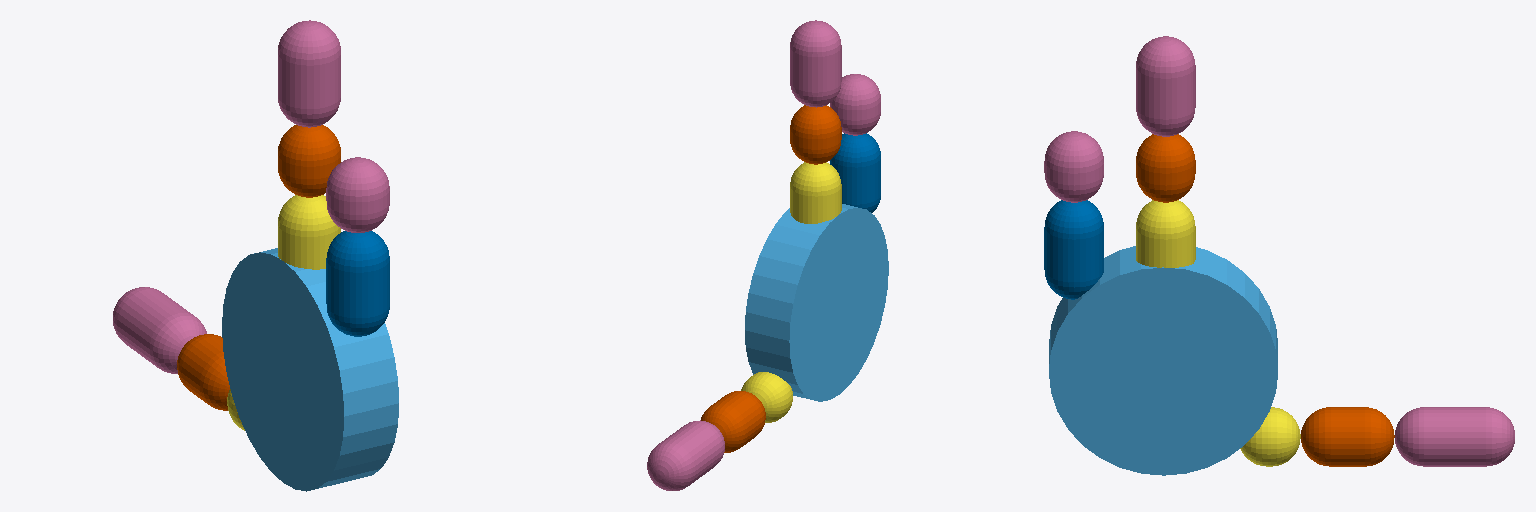
robot.urdf — DexterousHand:
<?xml version="1.0"?>
<robot name="DexterousHand">


    <link name="world"/>
    <joint name="world_to_palm" type="fixed">
        <parent link="world"/>
        <child link="palm"/>
        <origin xyz="0 0 0" rpy="0 0 0"/>
    </joint>
    <link name="palm">
        <inertial>
            <origin xyz="0 0 0.057" rpy="0 0 0"/>
            <mass value="0.30212892864"/>
            <inertia ixx="0.00049080844457568" ixy="0.0" ixz="0.0" iyy="0.00026746366246427523" iyz="0.0" izz="0.00026746366246427523"/>
        </inertial>
        <visual>
            <origin xyz="0 0 0.057" rpy="1.5708 0 1.5708"/>
            <geometry>
                <cylinder radius="0.057" length="0.0296"/>
            </geometry>
            <material name="default"/>
        </visual>
        <collision>
            <origin xyz="0 0 0.057" rpy="1.5708 0 1.5708"/>
            <geometry>
                <cylinder radius="0.057" length="0.0296"/>
            </geometry>
        </collision>
    </link>

    
    <joint name="thumb_joint1" type="revolute">
        <parent link="palm"/>
        <child link="thumb_base"/>
        <origin xyz="0.0029 0.0368 0.0157" rpy="-1.5708 -1.5708 0.0"/>
        <axis xyz="-1 0 0"/>
        <limit lower="-0.349" upper="2.094" effort="1.0" velocity="1.0"/>
    </joint>

    <link name="thumb_base"></link>

    <joint name="thumb_joint2" type="revolute">
        <parent link="thumb_base"/>
        <child link="thumb_proximal"/>
        <origin xyz="0.0 0.0 0.0" rpy="0.0 0.0 0.0"/>
        <axis xyz="0 0 1"/>
        <limit lower="-0.47" upper="2.443" effort="1.0" velocity="1.0"/>
    </joint>

    <link name="thumb_proximal">
        <inertial>
            <origin xyz="0 0 0.01565" rpy="0 0 0"/>
            <mass value="0.021538658803200002"/>
            <inertia ixx="2.9378910096388167e-06" ixy="0.0" ixz="0.0" 
            iyy="2.9378910096388167e-06" iyz="0.0" izz="2.358913912126464e-06"/>
        </inertial>
        <visual>
            <origin xyz="0 0 0.01565" rpy="0 0 0"/>
            <geometry>
                <cylinder radius="0.0148" length="0.0017000000000000001"/>
            </geometry>
            <material name="default"/>
        </visual>
        <visual>
            <origin xyz="0 0 0.0148" rpy="0 0 0"/>
            <geometry>
                <sphere radius="0.0148"/>
            </geometry>
            <material name="default"/>
        </visual>
        <visual>
            <origin xyz="0 0 0.0165" rpy="0 0 0"/>
            <geometry>
                <sphere radius="0.0148"/>
            </geometry>
            <material name="default"/>
        </visual>
        <collision>
            <origin xyz="0 0 0.01565" rpy="0 0 0"/>
            <geometry>
                <cylinder radius="0.0148" length="0.0017000000000000001"/>
            </geometry>
        </collision>
        <collision>
            <origin xyz="0 0 0.0148" rpy="0 0 0"/>
            <geometry>
                <sphere radius="0.0148"/>
            </geometry>
        </collision>
        <collision>
            <origin xyz="0 0 0.0165" rpy="0 0 0"/>
            <geometry>
                <sphere radius="0.0148"/>
            </geometry>
        </collision>
    </link>

    <joint name="thumb_joint3" type="revolute">
        <parent link="thumb_proximal"/>
        <child link="thumb_knuckle"/>
        <origin xyz="0.0 0.0 0.0313" rpy="0.0 0.0 0.0"/>
        <axis xyz="1 0 0"/>
        <limit lower="0.0" upper="0.0" effort="1.0" velocity="1.0"/>
    </joint>

    <link name="thumb_knuckle"></link>

    <joint name="thumb_joint4" type="revolute">
        <parent link="thumb_knuckle"/>
        <child link="thumb_middle"/>
        <origin xyz="0 0 0" rpy="0 0 0"/> 
        <axis xyz="0 1 0"/>
        <limit lower="-1.2" upper="1.9" effort="1.0" velocity="1.0"/>
    </joint>

    <link name="thumb_middle">
        <inertial>
            <origin xyz="0 0 0.0233" rpy="0 0 0"/>
            <mass value="0.032067140582400004"/>
            <inertia ixx="7.5589732685519385e-06" ixy="0.0" ixz="0.0" 
            iyy="7.5589732685519385e-06" iyz="0.0" izz="3.5119932365844485e-06"/>
        </inertial>
        <visual>
            <origin xyz="0 0 0.0233" rpy="0 0 0"/>
            <geometry>
                <cylinder radius="0.0148" length="0.017"/>
            </geometry>
            <material name="default"/>
        </visual>
        <visual>
            <origin xyz="0 0 0.0148" rpy="0 0 0"/>
            <geometry>
                <sphere radius="0.0148"/>
            </geometry>
            <material name="default"/>
        </visual>
        <visual>
            <origin xyz="0 0 0.0318" rpy="0 0 0"/>
            <geometry>
                <sphere radius="0.0148"/>
            </geometry>
            <material name="default"/>
        </visual>
        <collision>
            <origin xyz="0 0 0.0233" rpy="0 0 0"/>
            <geometry>
                <cylinder radius="0.0148" length="0.017"/>
            </geometry>
        </collision>
        <collision>
            <origin xyz="0 0 0.0148" rpy="0 0 0"/>
            <geometry>
                <sphere radius="0.0148"/>
            </geometry>
        </collision>
        <collision>
            <origin xyz="0 0 0.0318" rpy="0 0 0"/>
            <geometry>
                <sphere radius="0.0148"/>
            </geometry>
        </collision>
    </link>

    <joint name="thumb_joint5" type="revolute">
        <parent link="thumb_middle"/>
        <child link="thumb_distal"/>
        <origin xyz="0 0 0.0466" rpy="0 0 0"/> 
        <axis xyz="0 1 0"/>
        <limit lower="-1.34" upper="1.88" effort="1.0" velocity="1.0"/>
    </joint>

    <link name="thumb_distal">
        <inertial>
            <origin xyz="0 0 0.03" rpy="0 0 0"/>
            <mass value="0.04128816384"/>
            <inertia ixx="1.46473890038784e-05" ixy="0.0" ixz="0.0" 
            iyy="1.46473890038784e-05" iyz="0.0" izz="4.521879703756801e-06"/>
        </inertial>
        <visual>
            <origin xyz="0 0 0.03" rpy="0 0 0"/>
            <geometry>
                <cylinder radius="0.0148" length="0.030399999999999996"/>
            </geometry>
            <material name="default"/>
        </visual>
        <visual>
            <origin xyz="0 0 0.0148" rpy="0 0 0"/>
            <geometry>
                <sphere radius="0.0148"/>
            </geometry>
            <material name="default"/>
        </visual>
        <visual>
            <origin xyz="0 0 0.0452" rpy="0 0 0"/>
            <geometry>
                <sphere radius="0.0148"/>
            </geometry>
            <material name="default"/>
        </visual>
        <collision>
            <origin xyz="0 0 0.03" rpy="0 0 0"/>
            <geometry>
                <cylinder radius="0.0148" length="0.030399999999999996"/>
            </geometry>
        </collision>
        <collision>
            <origin xyz="0 0 0.0148" rpy="0 0 0"/>
            <geometry>
                <sphere radius="0.0148"/>
            </geometry>
        </collision>
        <collision>
            <origin xyz="0 0 0.0452" rpy="0 0 0"/>
            <geometry>
                <sphere radius="0.0148"/>
            </geometry>
        </collision>
    </link>

    
    <joint name="index_joint1" type="revolute">
        <parent link="palm"/>
        <child link="index_proximal"/>
        <origin xyz="0.0 0.0 0.0" rpy="0.0 0.0 0.0"/>
        <axis xyz="1 0 0"/>
        <limit lower="0.0" upper="0.0" effort="1.0" velocity="1.0"/>
    </joint>

    <link name="index_proximal">
    </link>

    <joint name="index_joint2" type="revolute">
        <parent link="index_proximal"/>
        <child link="index_dummy"/>
        <origin xyz="0.0 0.0 0.0" rpy="0.0 0.0 0.0"/>
        <axis xyz="0 1 0"/>
        <limit lower="0.0" upper="0.0" effort="1.0" velocity="1.0"/>
    </joint>

    <link name="index_dummy"></link>

    <joint name="index_joint3" type="revolute">
        <parent link="index_dummy"/>
        <child link="index_middle"/>
        <origin xyz="0 0 0" rpy="0 0 0"/>
        <axis xyz="0 1 0"/>
        <limit lower="0.0" upper="0.0" effort="1.0" velocity="1.0"/>
    </joint>

    <link name="index_middle">
    </link>

    <joint name="index_joint4" type="revolute">
        <parent link="index_middle"/>
        <child link="index_distal"/>
        <origin xyz="0 0 0" rpy="0 0 0"/> 
        <axis xyz="0 1 0"/>
        <limit lower="0.0" upper="0.0" effort="1.0" velocity="1.0"/>
    </joint>

    <link name="index_distal">
    </link>

    
    <joint name="middle_joint1" type="revolute">
        <parent link="palm"/>
        <child link="middle_proximal"/>
        <origin xyz="0.0 0.0011 0.091" rpy="0.0 0.0 0.0"/>
        <axis xyz="0 1 0"/>
        <limit lower="-0.314" upper="2.23" effort="1.0" velocity="1.0"/>
    </joint>

    <link name="middle_proximal">
        <inertial>
            <origin xyz="0 0 0.02655" rpy="0 0 0"/>
            <mass value="0.036540024998400006"/>
            <inertia ixx="1.058665009272394e-05" ixy="0.0" ixz="0.0" 
            iyy="1.058665009272394e-05" iyz="0.0" izz="4.001863537824769e-06"/>
        </inertial>
        <visual>
            <origin xyz="0 0 0.02655" rpy="0 0 0"/>
            <geometry>
                <cylinder radius="0.0148" length="0.0235"/>
            </geometry>
            <material name="default"/>
        </visual>
        <visual>
            <origin xyz="0 0 0.0148" rpy="0 0 0"/>
            <geometry>
                <sphere radius="0.0148"/>
            </geometry>
            <material name="default"/>
        </visual>
        <visual>
            <origin xyz="0 0 0.0383" rpy="0 0 0"/>
            <geometry>
                <sphere radius="0.0148"/>
            </geometry>
            <material name="default"/>
        </visual>
        <collision>
            <origin xyz="0 0 0.02655" rpy="0 0 0"/>
            <geometry>
                <cylinder radius="0.0148" length="0.0235"/>
            </geometry>
        </collision>
        <collision>
            <origin xyz="0 0 0.0148" rpy="0 0 0"/>
            <geometry>
                <sphere radius="0.0148"/>
            </geometry>
        </collision>
        <collision>
            <origin xyz="0 0 0.0383" rpy="0 0 0"/>
            <geometry>
                <sphere radius="0.0148"/>
            </geometry>
        </collision>
    </link>

    <joint name="middle_joint2" type="revolute">
        <parent link="middle_proximal"/>
        <child link="middle_dummy"/>
        <origin xyz="0.0 0.0 0.038" rpy="0.0 0.0 0.0"/>
        <axis xyz="1 0 0"/>
        <limit lower="-1.047" upper="1.047" effort="1.0" velocity="1.0"/>
    </joint>

    <link name="middle_dummy"></link>

    <joint name="middle_joint3" type="revolute">
        <parent link="middle_dummy"/>
        <child link="middle_middle"/>
        <origin xyz="0 0 0.015100000000000002" rpy="0 0 0"/>
        <axis xyz="0 1 0"/>
        <limit lower="-0.506" upper="1.885" effort="1.0" velocity="1.0"/>
    </joint>

    <link name="middle_middle">
        <inertial>
            <origin xyz="0 0 0.01805" rpy="0 0 0"/>
            <mass value="0.0248417119104"/>
            <inertia ixx="4.058162759109537e-06" ixy="0.0" ixz="0.0" 
            iyy="4.058162759109537e-06" iyz="0.0" izz="2.7206642884270085e-06"/>
        </inertial>
        <visual>
            <origin xyz="0 0 0.01805" rpy="0 0 0"/>
            <geometry>
                <cylinder radius="0.0148" length="0.006499999999999999"/>
            </geometry>
            <material name="default"/>
        </visual>
        <visual>
            <origin xyz="0 0 0.0148" rpy="0 0 0"/>
            <geometry>
                <sphere radius="0.0148"/>
            </geometry>
            <material name="default"/>
        </visual>
        <visual>
            <origin xyz="0 0 0.0213" rpy="0 0 0"/>
            <geometry>
                <sphere radius="0.0148"/>
            </geometry>
            <material name="default"/>
        </visual>
        <collision>
            <origin xyz="0 0 0.01805" rpy="0 0 0"/>
            <geometry>
                <cylinder radius="0.0148" length="0.006499999999999999"/>
            </geometry>
        </collision>
        <collision>
            <origin xyz="0 0 0.0148" rpy="0 0 0"/>
            <geometry>
                <sphere radius="0.0148"/>
            </geometry>
        </collision>
        <collision>
            <origin xyz="0 0 0.0213" rpy="0 0 0"/>
            <geometry>
                <sphere radius="0.0148"/>
            </geometry>
        </collision>
    </link>

    <joint name="middle_joint4" type="revolute">
        <parent link="middle_middle"/>
        <child link="middle_distal"/>
        <origin xyz="0 0 0.0361" rpy="0 0 0"/> 
        <axis xyz="0 1 0"/>
        <limit lower="-0.366" upper="2.042" effort="1.0" velocity="1.0"/>
    </joint>

    <link name="middle_distal">
        <inertial>
            <origin xyz="0 0 0.026" rpy="0 0 0"/>
            <mass value="0.035783075328"/>
            <inertia ixx="1.002260084553728e-05" ixy="0.0" ixz="0.0" 
            iyy="1.002260084553728e-05" iyz="0.0" izz="3.91896240992256e-06"/>
        </inertial>
        <visual>
            <origin xyz="0 0 0.026" rpy="0 0 0"/>
            <geometry>
                <cylinder radius="0.0148" length="0.022399999999999996"/>
            </geometry>
            <material name="default"/>
        </visual>
        <visual>
            <origin xyz="0 0 0.0148" rpy="0 0 0"/>
            <geometry>
                <sphere radius="0.0148"/>
            </geometry>
            <material name="default"/>
        </visual>
        <visual>
            <origin xyz="0 0 0.0372" rpy="0 0 0"/>
            <geometry>
                <sphere radius="0.0148"/>
            </geometry>
            <material name="default"/>
        </visual>
        <collision>
            <origin xyz="0 0 0.026" rpy="0 0 0"/>
            <geometry>
                <cylinder radius="0.0148" length="0.022399999999999996"/>
            </geometry>
        </collision>
        <collision>
            <origin xyz="0 0 0.0148" rpy="0 0 0"/>
            <geometry>
                <sphere radius="0.0148"/>
            </geometry>
        </collision>
        <collision>
            <origin xyz="0 0 0.0372" rpy="0 0 0"/>
            <geometry>
                <sphere radius="0.0148"/>
            </geometry>
        </collision>
    </link>

    
    <joint name="ring_joint1" type="revolute">
        <parent link="palm"/>
        <child link="ring_proximal"/>
        <origin xyz="0.0 0.0 0.0" rpy="0.0 0.0 0.0"/>
        <axis xyz="1 0 0"/>
        <limit lower="0.0" upper="0.0" effort="1.0" velocity="1.0"/>
    </joint>

    <link name="ring_proximal">
    </link>

    <joint name="ring_joint2" type="revolute">
        <parent link="ring_proximal"/>
        <child link="ring_dummy"/>
        <origin xyz="0.0 0.0 0.0" rpy="0.0 0.0 0.0"/>
        <axis xyz="0 1 0"/>
        <limit lower="0.0" upper="0.0" effort="1.0" velocity="1.0"/>
    </joint>

    <link name="ring_dummy"></link>

    <joint name="ring_joint3" type="revolute">
        <parent link="ring_dummy"/>
        <child link="ring_middle"/>
        <origin xyz="0 0 0" rpy="0 0 0"/>
        <axis xyz="0 1 0"/>
        <limit lower="0.0" upper="0.0" effort="1.0" velocity="1.0"/>
    </joint>

    <link name="ring_middle">
    </link>

    <joint name="ring_joint4" type="revolute">
        <parent link="ring_middle"/>
        <child link="ring_distal"/>
        <origin xyz="0 0 0" rpy="0 0 0"/> 
        <axis xyz="0 1 0"/>
        <limit lower="0.0" upper="0.0" effort="1.0" velocity="1.0"/>
    </joint>

    <link name="ring_distal">
    </link>

    
    <joint name="little_joint0" type="revolute">
        <parent link="palm"/>
        <child link="little_base"/>
        <origin xyz="0.0 0.0 0.0" rpy="0.0 0.0 0.0"/>
        <axis xyz="0 1 0"/>
        <limit lower="0.0" upper="0.0" effort="1.0" velocity="1.0"/>
    </joint>

    <link name="little_base"></link>

    <joint name="little_joint1" type="revolute">
        <parent link="little_base"/>
        <child link="little_proximal"/>
        <origin xyz="0.0 -0.0443 0.091" rpy="-0.0 -0.0 -0.0"/>
        <axis xyz="0 1 0"/>
        <limit lower="-0.314" upper="2.23" effort="1.0" velocity="1.0"/>
    </joint>

    <link name="little_proximal">
        <inertial>
            <origin xyz="0 0 0.02655" rpy="0 0 0"/>
            <mass value="0.036540024998400006"/>
            <inertia ixx="1.058665009272394e-05" ixy="0.0" ixz="0.0" 
            iyy="1.058665009272394e-05" iyz="0.0" izz="4.001863537824769e-06"/>
        </inertial>
        <visual>
            <origin xyz="0 0 0.02655" rpy="0 0 0"/>
            <geometry>
                <cylinder radius="0.0148" length="0.0235"/>
            </geometry>
            <material name="default"/>
        </visual>
        <visual>
            <origin xyz="0 0 0.0148" rpy="0 0 0"/>
            <geometry>
                <sphere radius="0.0148"/>
            </geometry>
            <material name="default"/>
        </visual>
        <visual>
            <origin xyz="0 0 0.0383" rpy="0 0 0"/>
            <geometry>
                <sphere radius="0.0148"/>
            </geometry>
            <material name="default"/>
        </visual>
        <collision>
            <origin xyz="0 0 0.02655" rpy="0 0 0"/>
            <geometry>
                <cylinder radius="0.0148" length="0.0235"/>
            </geometry>
        </collision>
        <collision>
            <origin xyz="0 0 0.0148" rpy="0 0 0"/>
            <geometry>
                <sphere radius="0.0148"/>
            </geometry>
        </collision>
        <collision>
            <origin xyz="0 0 0.0383" rpy="0 0 0"/>
            <geometry>
                <sphere radius="0.0148"/>
            </geometry>
        </collision>
    </link>

    <joint name="little_joint2" type="revolute">
        <parent link="little_proximal"/>
        <child link="little_dummy"/>
        <origin xyz="0.0 0.0 0.038" rpy="0.0 0.0 0.0"/>
        <axis xyz="1 0 0"/>
        <limit lower="-1.047" upper="1.047" effort="1.0" velocity="1.0"/>
    </joint>

    <link name="little_dummy"></link>

    <joint name="little_joint3" type="revolute">
        <parent link="little_dummy"/>
        <child link="little_middle"/>
        <origin xyz="0 0 0.015100000000000002" rpy="0 0 0"/>
        <axis xyz="0 1 0"/>
        <limit lower="-0.506" upper="1.885" effort="1.0" velocity="1.0"/>
    </joint>

    <link name="little_middle">
        <inertial>
            <origin xyz="0 0 0.01805" rpy="0 0 0"/>
            <mass value="0.0248417119104"/>
            <inertia ixx="4.058162759109537e-06" ixy="0.0" ixz="0.0" 
            iyy="4.058162759109537e-06" iyz="0.0" izz="2.7206642884270085e-06"/>
        </inertial>
        <visual>
            <origin xyz="0 0 0.01805" rpy="0 0 0"/>
            <geometry>
                <cylinder radius="0.0148" length="0.006499999999999999"/>
            </geometry>
            <material name="default"/>
        </visual>
        <visual>
            <origin xyz="0 0 0.0148" rpy="0 0 0"/>
            <geometry>
                <sphere radius="0.0148"/>
            </geometry>
            <material name="default"/>
        </visual>
        <visual>
            <origin xyz="0 0 0.0213" rpy="0 0 0"/>
            <geometry>
                <sphere radius="0.0148"/>
            </geometry>
            <material name="default"/>
        </visual>
        <collision>
            <origin xyz="0 0 0.01805" rpy="0 0 0"/>
            <geometry>
                <cylinder radius="0.0148" length="0.006499999999999999"/>
            </geometry>
        </collision>
        <collision>
            <origin xyz="0 0 0.0148" rpy="0 0 0"/>
            <geometry>
                <sphere radius="0.0148"/>
            </geometry>
        </collision>
        <collision>
            <origin xyz="0 0 0.0213" rpy="0 0 0"/>
            <geometry>
                <sphere radius="0.0148"/>
            </geometry>
        </collision>
    </link>

    <joint name="little_joint4" type="revolute">
        <parent link="little_middle"/>
        <child link="little_distal"/>
        <origin xyz="0 0 0.0361" rpy="0 0 0"/>
        <axis xyz="0 1 0"/>
        <limit lower="0.0" upper="0.0" effort="1.0" velocity="1.0"/>
    </joint>

    <link name="little_distal">
    </link>

</robot>

--- Render facts (derived) ---
Views: 3 orthographic renders of the robot side by side, from view 1: azimuth 30°, elevation 25°; view 2: azimuth 150°, elevation 25°; view 3: azimuth 270°, elevation 25°.
Robot: DexterousHand — 24 links, 23 joints (22 revolute, 1 fixed); root link world; default pose: every joint at zero.
Visible links, largest first — view 1: palm, little_proximal, middle_distal, thumb_distal, little_middle, middle_middle, middle_proximal, thumb_middle; view 2: palm, middle_distal, thumb_distal, little_proximal, middle_proximal, middle_middle, thumb_middle, little_middle, thumb_proximal; view 3: palm, thumb_distal, middle_distal, little_proximal, thumb_middle, middle_proximal, little_middle, middle_middle, thumb_proximal.
Boxes of the visible links, left/top/right/bottom form: palm: left=222, top=248, right=398, bottom=491; little_proximal: left=326, top=231, right=389, bottom=336; middle_distal: left=278, top=20, right=340, bottom=127; thumb_distal: left=113, top=287, right=206, bottom=373; little_middle: left=326, top=157, right=389, bottom=232; middle_middle: left=278, top=125, right=340, bottom=197; middle_proximal: left=278, top=195, right=340, bottom=269; thumb_middle: left=177, top=334, right=229, bottom=410; palm: left=745, top=204, right=888, bottom=401; middle_distal: left=790, top=20, right=841, bottom=107; thumb_distal: left=647, top=420, right=724, bottom=490; little_proximal: left=830, top=133, right=880, bottom=212; middle_proximal: left=790, top=162, right=841, bottom=223; middle_middle: left=790, top=105, right=841, bottom=164; thumb_middle: left=701, top=391, right=765, bottom=452; little_middle: left=830, top=74, right=880, bottom=135; thumb_proximal: left=741, top=372, right=792, bottom=422; palm: left=1049, top=246, right=1277, bottom=475; thumb_distal: left=1395, top=407, right=1514, bottom=466; middle_distal: left=1136, top=36, right=1195, bottom=136; little_proximal: left=1044, top=200, right=1103, bottom=299; thumb_middle: left=1301, top=407, right=1394, bottom=466; middle_proximal: left=1136, top=200, right=1195, bottom=267; little_middle: left=1044, top=131, right=1103, bottom=202; middle_middle: left=1136, top=134, right=1195, bottom=202; thumb_proximal: left=1240, top=407, right=1300, bottom=466.
Size in the robot's own frame: 0.0325 by 0.2338 by 0.2322 metres.
Geometry: primitives only (box / cylinder / sphere), no mesh files.
